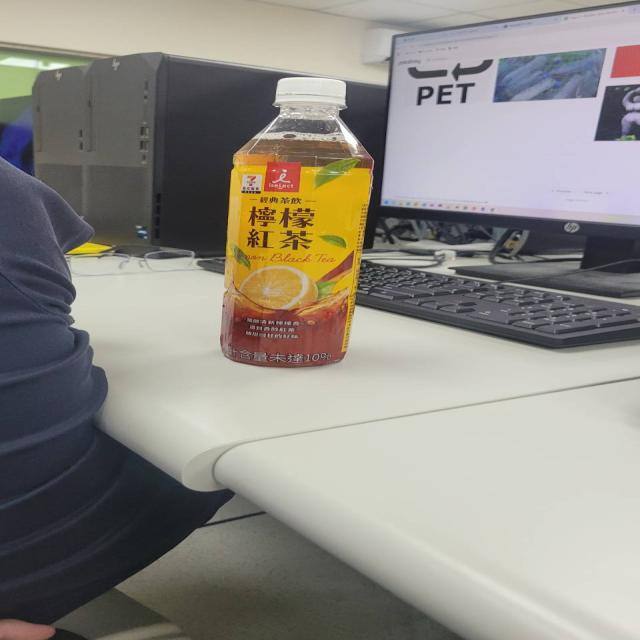PET bottle: (214, 64, 380, 376)
